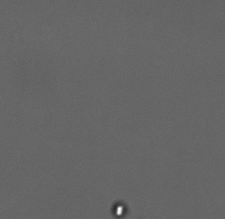Living Cell: (109, 200, 128, 217)
